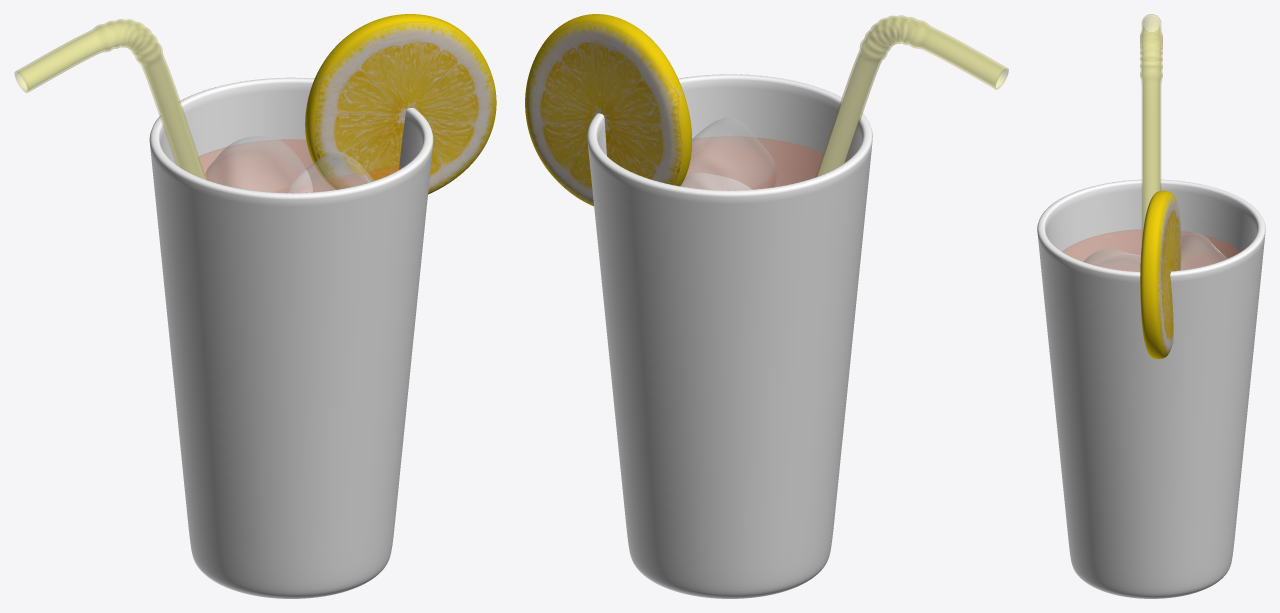
Rendered from ptl.glb.
3 views of the same model, side by side, from view 1: azimuth 30°, elevation 25°; view 2: azimuth 150°, elevation 25°; view 3: azimuth 270°, elevation 25° (orthographic). The views are drawn at different scales.
Visible parts, largest first — view 1: Glas, Lemon, NurbsPath, Cocktail, Cube, Cube.001; view 2: Glas, Lemon, NurbsPath, Cocktail, Cube.001, Cube; view 3: Glas, Lemon, NurbsPath, Cocktail, Cube, Cube.001.
Part boxes in pixels (<box>): Glas: <box>149,77,433,598</box>; Lemon: <box>305,14,496,194</box>; NurbsPath: <box>14,19,206,179</box>; Cocktail: <box>199,139,402,192</box>; Cube: <box>205,136,309,192</box>; Cube.001: <box>288,152,373,192</box>; Glas: <box>587,74,872,598</box>; Lemon: <box>525,14,691,206</box>; NurbsPath: <box>815,15,1008,176</box>; Cocktail: <box>686,138,822,189</box>; Cube.001: <box>685,117,776,189</box>; Cube: <box>680,173,751,189</box>; Glas: <box>1037,179,1265,598</box>; Lemon: <box>1140,190,1181,359</box>; NurbsPath: <box>1140,14,1162,236</box>; Cocktail: <box>1062,229,1240,271</box>; Cube: <box>1181,233,1227,270</box>; Cube.001: <box>1083,249,1140,271</box>.
Bounding box in the file's own units: 2.96 × 3.47 × 1.53.
Materials: 5 (1 with a texture image).
